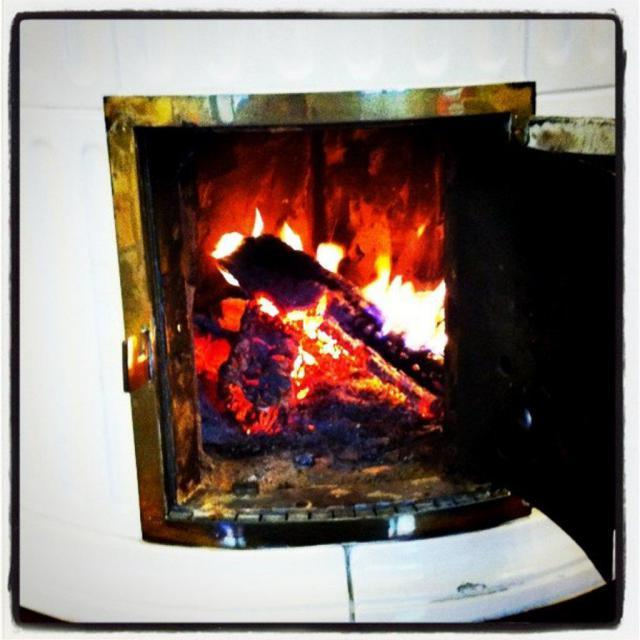Fire: (188, 173, 451, 413)
